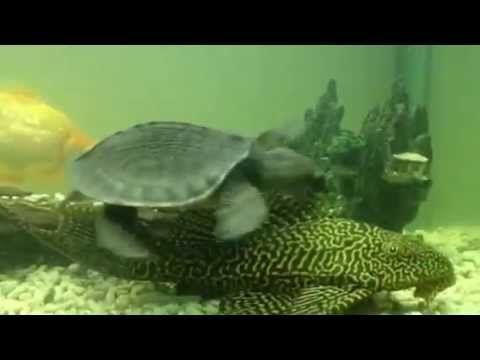Janitor Fish: (48, 205, 460, 314)
